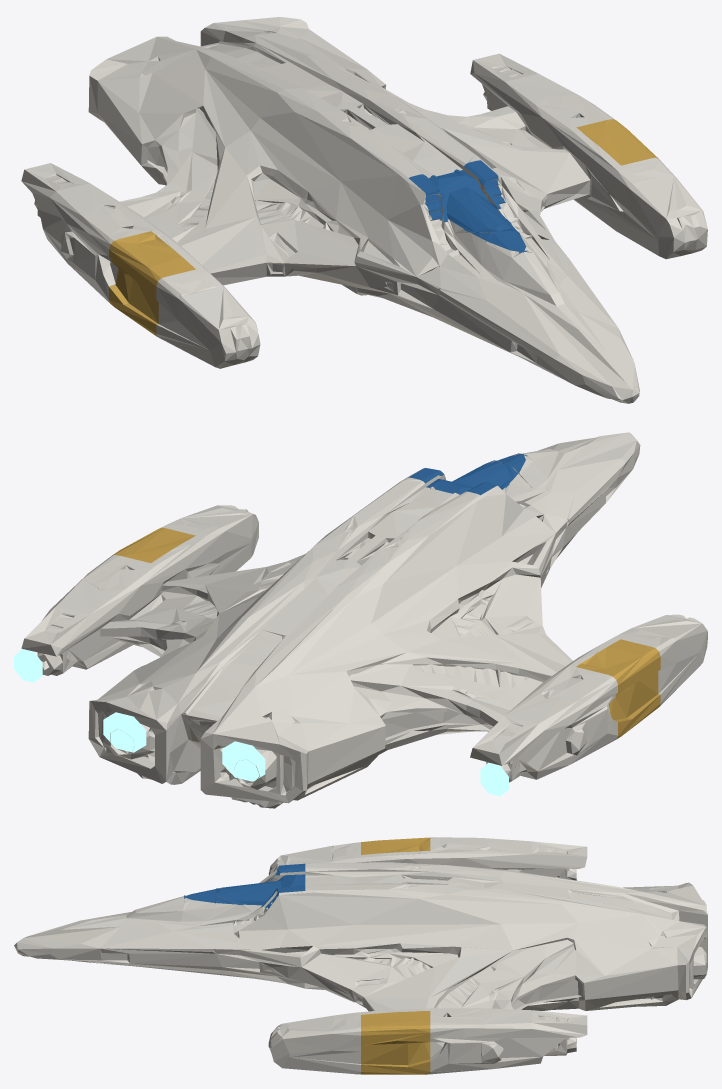
The model's file is imperial-courier.glb.
3 views of the same model, one above another, from view 1: azimuth 30°, elevation 25°; view 2: azimuth 150°, elevation 25°; view 3: azimuth 270°, elevation 25° (orthographic). The views are drawn at different scales.
Visible parts, largest first — view 1: imperial-courier; view 2: imperial-courier; view 3: imperial-courier.
Boxes of the visible parts, bbox=[...] form: imperial-courier: bbox=[21, 17, 707, 403]; imperial-courier: bbox=[14, 432, 707, 808]; imperial-courier: bbox=[14, 837, 707, 1074].
Size of the model in its own units: 27.35 by 7.03 by 41.14.
